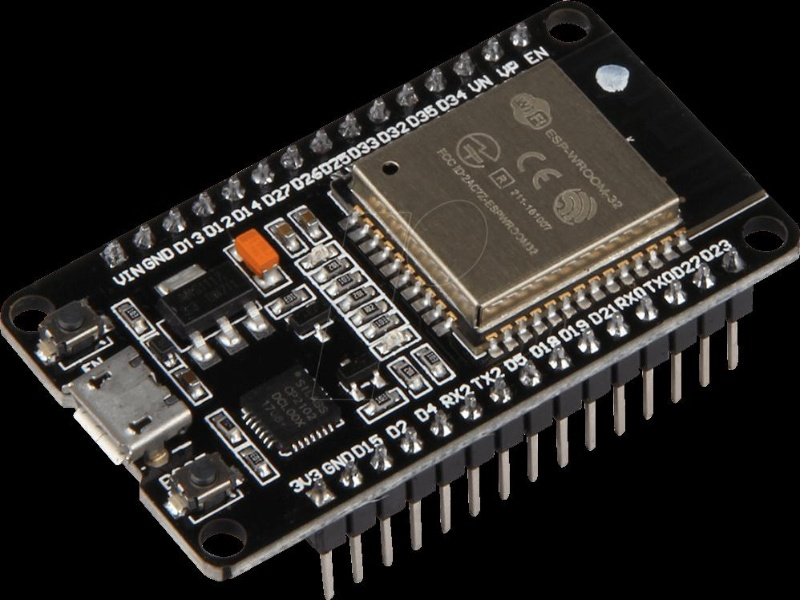esp32: (13, 27, 754, 555)
